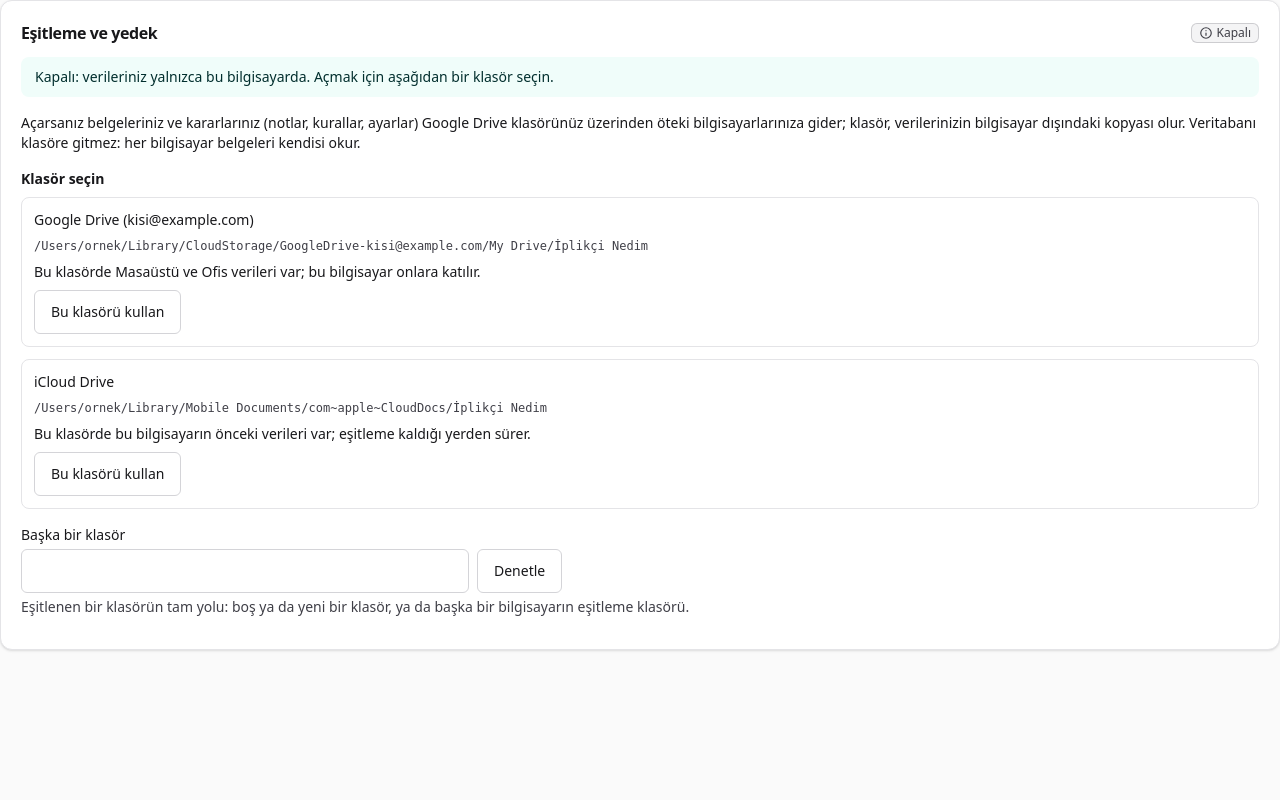
Test: SyncCard while the sync is off › says a folder holding other computers' data is joined, and what joining does to the decisions
Expected: the text "Bu klasörde Masaüstü ve Ofis verileri var; bu bilgisayar onlara katılır." is shown, [34,262,480,281]
Expected: the text "Bu klasörde bu bilgisayarın önceki verileri var; eşitleme kaldığı yerden sürer." is shown, [34,424,531,443]
Step 1. Click the button with aria-label "Bu klasörü kullan: Google Drive (kisi@example.com)" → coordinates (108, 312), box [34,290,182,334]
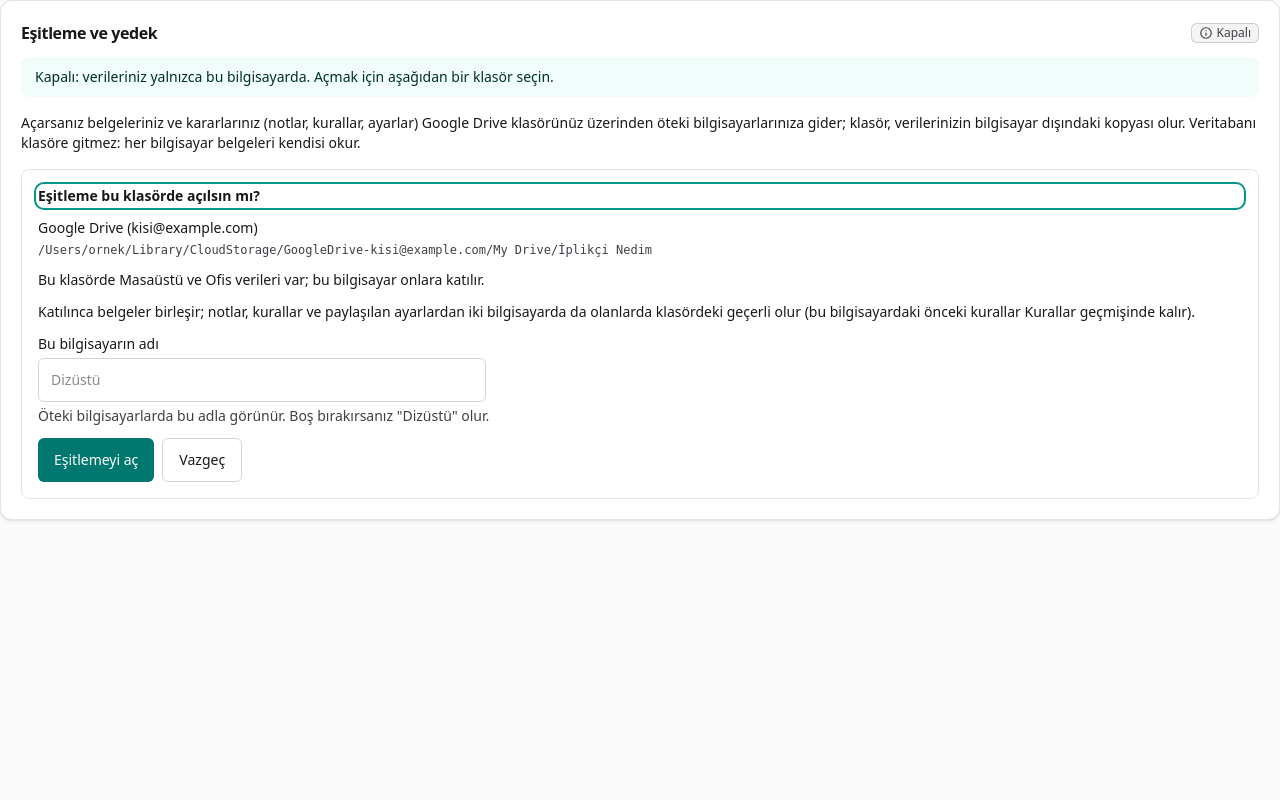
Expected: the text "Bu klasörde Masaüstü ve Ofis verileri var; bu bilgisayar onlara katılır." is shown, [38,270,484,289]
Result: the text "Katılınca belgeler birleşir; notlar, kurallar ve paylaşılan ayarlardan iki bilgisayarda da olanlarda klasördeki geçerli " is shown at [38,302,1195,321]
Step 2. Click the button "Vazgeç" → coordinates (202, 460), box [162,438,242,482]
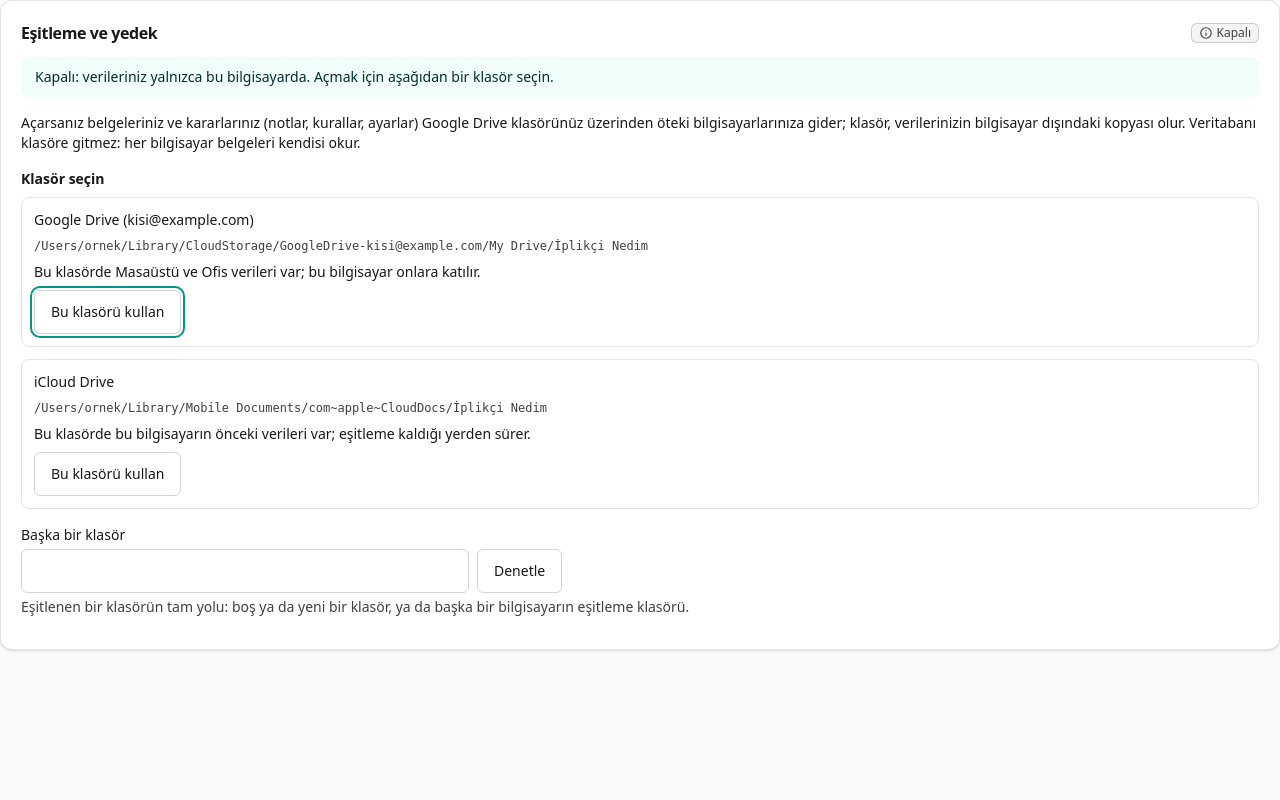
Result: the heading "Eşitleme bu klasörde açılsın mı?" is gone
